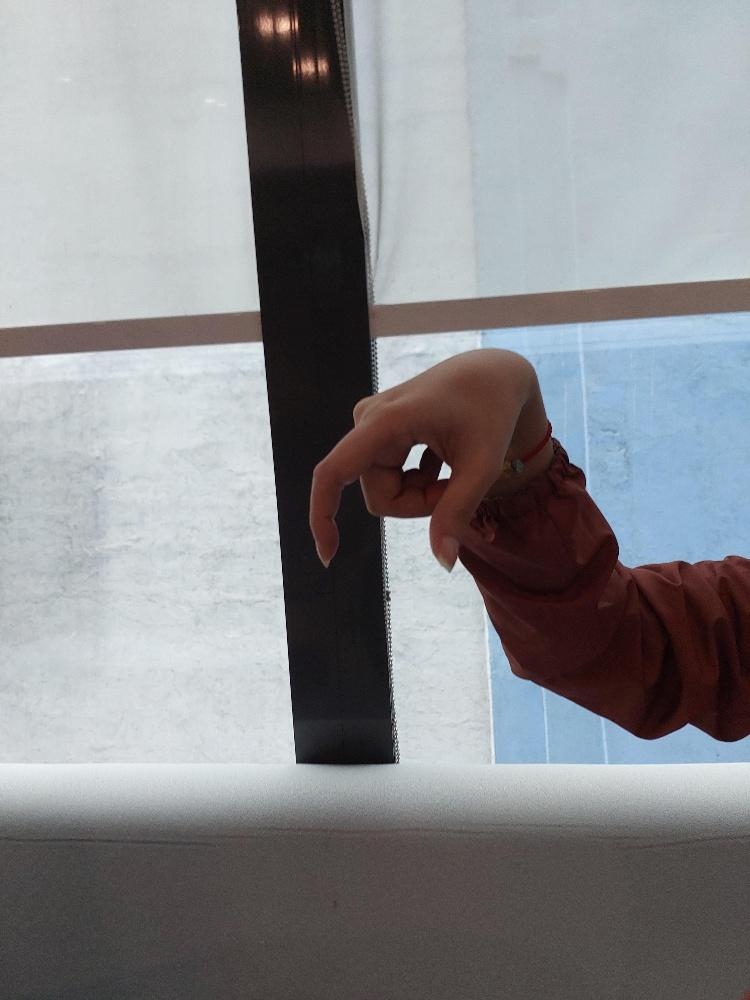q: (306, 341, 531, 571)
